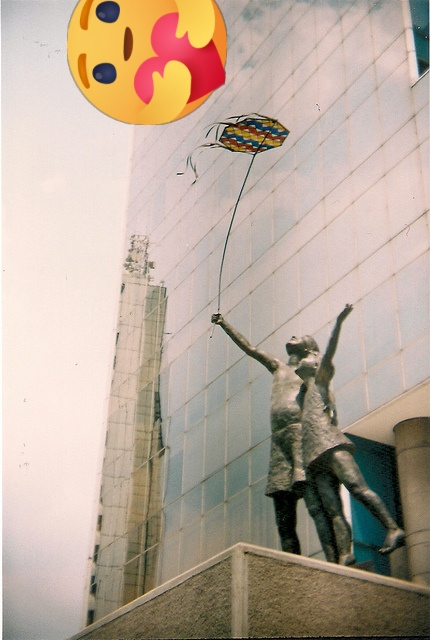care: (67, 0, 227, 125)
